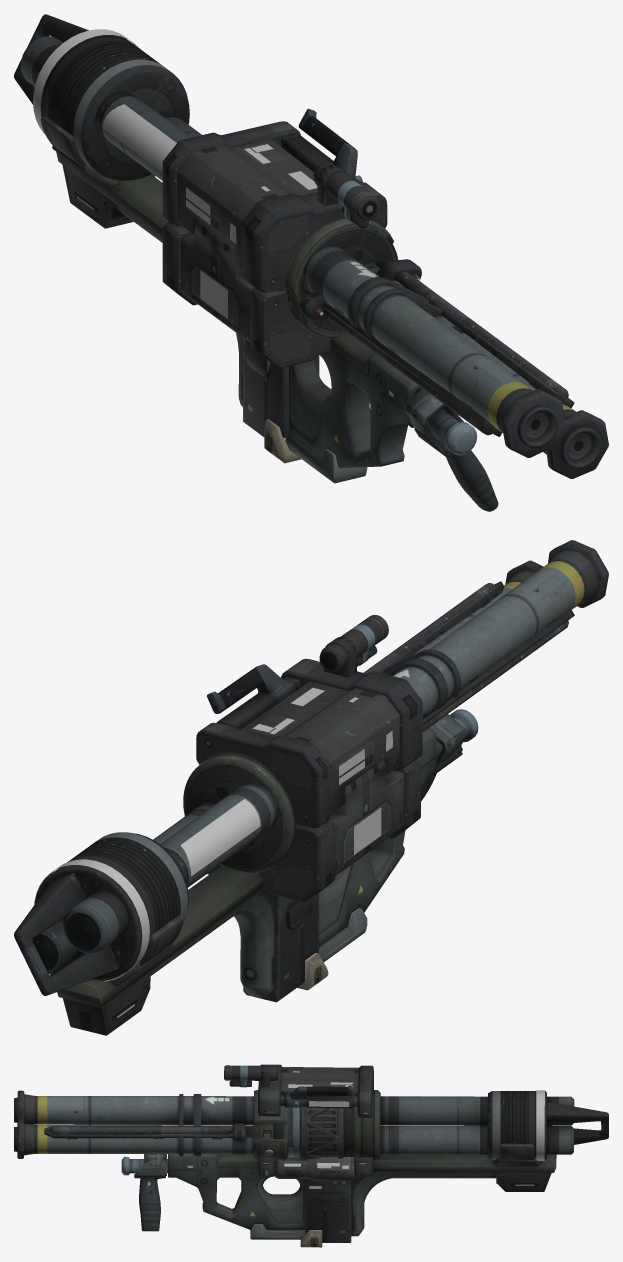
Rendered from Guncheck_v1.obj.
3 views of the same model, one above another, from view 1: azimuth 30°, elevation 25°; view 2: azimuth 150°, elevation 25°; view 3: azimuth 270°, elevation 25° (orthographic). The views are drawn at different scales.
Visible parts, largest first — view 1: Wep_1stP_M41_Rig.001_Wep_1stP_M41_Rig; view 2: Wep_1stP_M41_Rig.001_Wep_1stP_M41_Rig; view 3: Wep_1stP_M41_Rig.001_Wep_1stP_M41_Rig.
Part boxes in pixels (x1,y1,x2,y2): Wep_1stP_M41_Rig.001_Wep_1stP_M41_Rig: (14,14,608,511); Wep_1stP_M41_Rig.001_Wep_1stP_M41_Rig: (14,540,608,1035); Wep_1stP_M41_Rig.001_Wep_1stP_M41_Rig: (14,1064,608,1247).
Size of the model in its own units: 0.1726 by 0.364 by 1.12.
